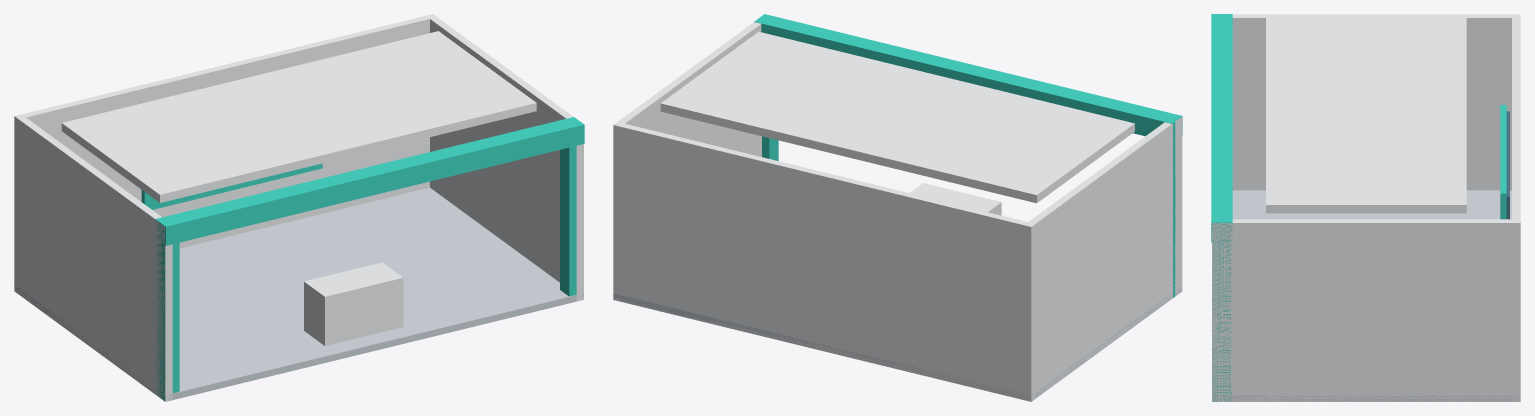
3 renders of one model, left to right at view 1: azimuth 30°, elevation 25°; view 2: azimuth 150°, elevation 25°; view 3: azimuth 270°, elevation 25°, orthographic. The views are drawn at different scales.
Parts seen in each view (by area): view 1: Exhibition Booth Concept; view 2: Exhibition Booth Concept; view 3: Exhibition Booth Concept.
Part boxes in pixels (left/top/right/bottom): Exhibition Booth Concept: left=14, top=14, right=584, bottom=401; Exhibition Booth Concept: left=613, top=14, right=1182, bottom=401; Exhibition Booth Concept: left=1211, top=14, right=1520, bottom=401.
Bounding box in the file's own units: 8 × 3.34 × 5.02.
